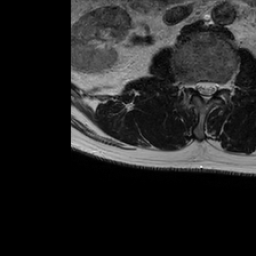CCS_normal: (202, 74, 208, 108)
LFS_stenosis: (217, 76, 227, 96)
LLS_normal: (209, 76, 217, 101)
RFS_stenosis: (186, 75, 195, 97)
RLS_normal: (195, 75, 202, 98)
